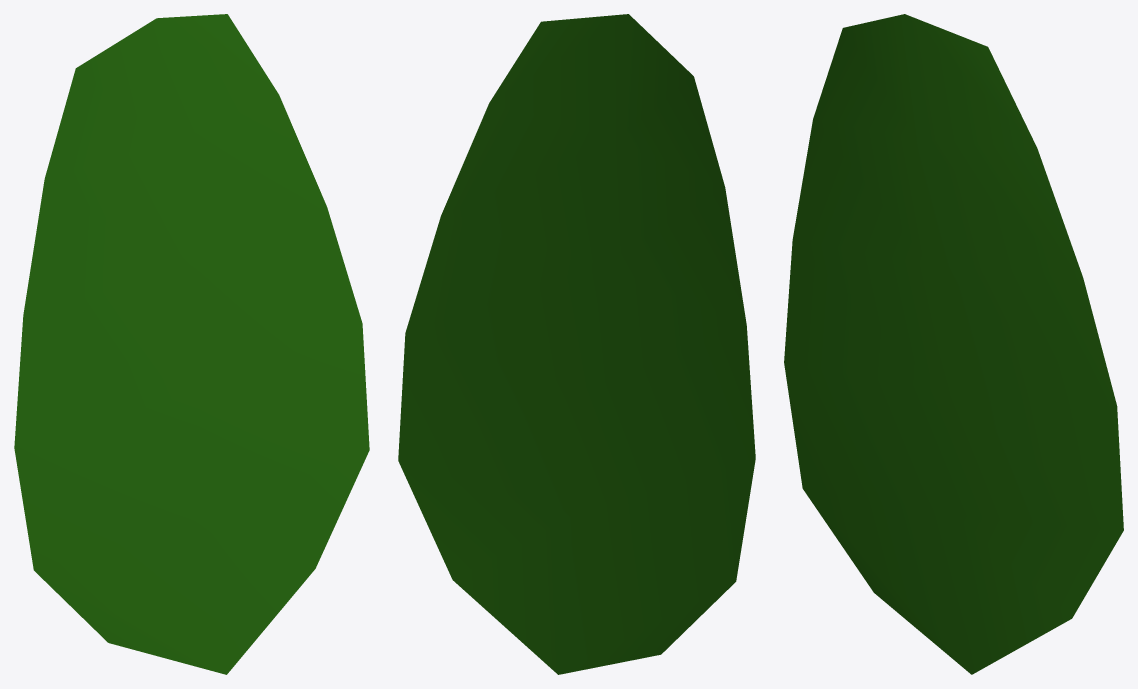
Rendered from lovebird_feather_flight_tertiary_012.001.obj.
3 renders of one model, left to right at view 1: azimuth 30°, elevation 25°; view 2: azimuth 150°, elevation 25°; view 3: azimuth 330°, elevation 25°, orthographic. The views are drawn at different scales.
Visible parts, largest first — view 1: feather_flight_tertiary_012.001; view 2: feather_flight_tertiary_012.001; view 3: feather_flight_tertiary_012.001.
Boxes of the visible parts, x1,y1,x2,y2 form: feather_flight_tertiary_012.001: (14, 14, 369, 674); feather_flight_tertiary_012.001: (398, 14, 755, 674); feather_flight_tertiary_012.001: (784, 14, 1123, 674).
Bounding box in the file's own units: 0.00405 × 0.00734 × 0.00016.
